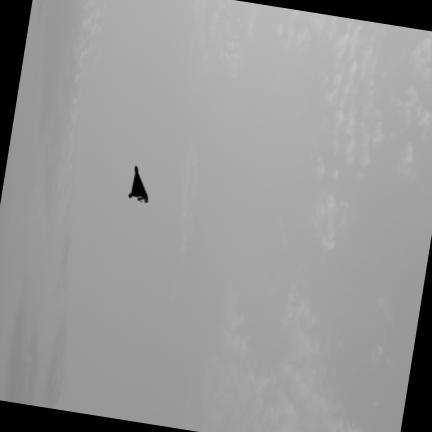Shahed: (128, 166, 147, 203)
